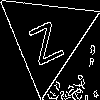Z: (22, 12, 65, 66)
